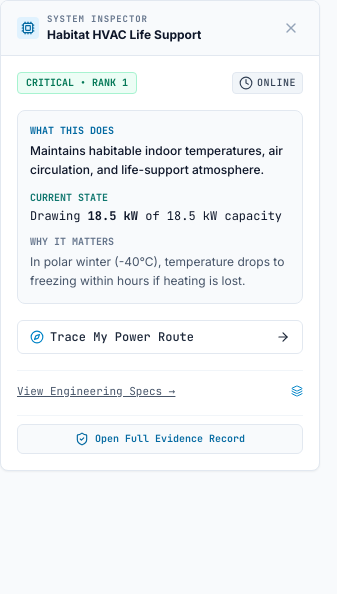
Test: Phase 18 Spatial Digital Twin Engine - Components Rendering › renders TwinInspector with Layer 1 non-technical explanation and toggleable Layer 2 technical details
Expected: the text "WHAT THIS DOES" is shown, x1=30 y1=124 x2=114 y2=136
Expected: the text "CURRENT STATE" is shown, x1=30 y1=190 x2=108 y2=204
// Toggle Layer 2
Click the button "View Engineering Specs →": x=160, y=390 x1=17 y1=382 x2=303 y2=398
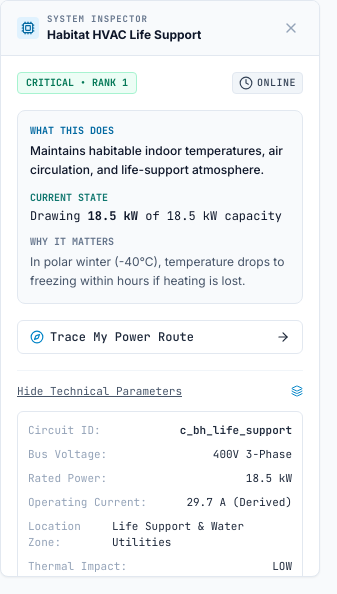
Expected: the text "Circuit ID:" is shown, x1=28 y1=422 x2=101 y2=438
Expected: the text "Bus Voltage:" is shown, x1=28 y1=446 x2=107 y2=462
Expected: the text "Rated Power:" is shown, x1=28 y1=470 x2=107 y2=486
